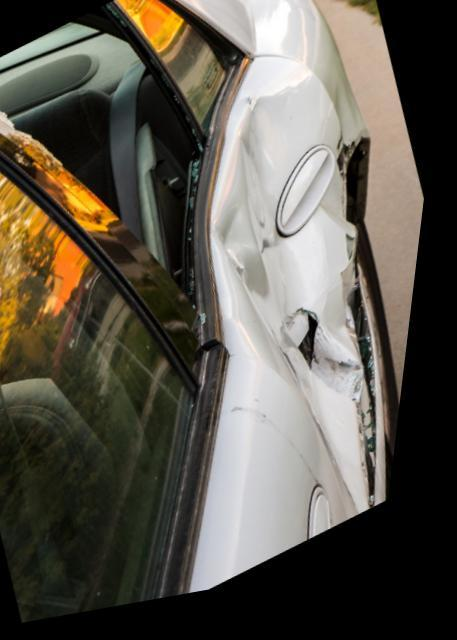crack: (306, 322, 328, 383)
dent: (222, 105, 318, 336), (330, 275, 367, 374)
